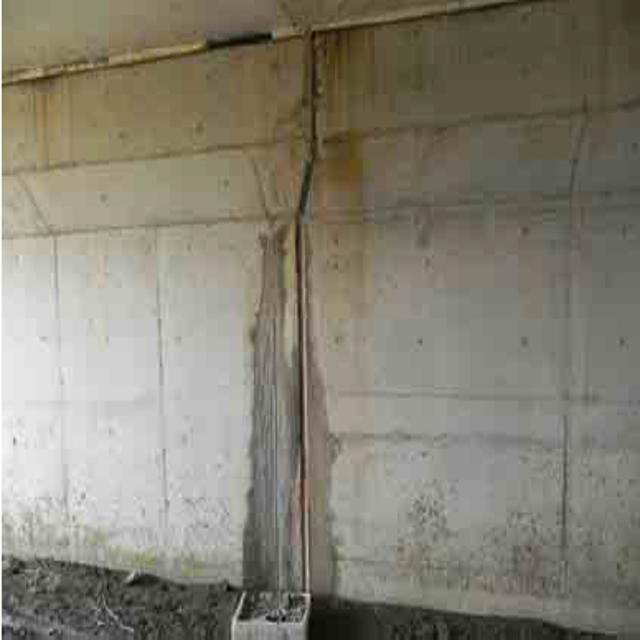leakage: (240, 38, 340, 593)
